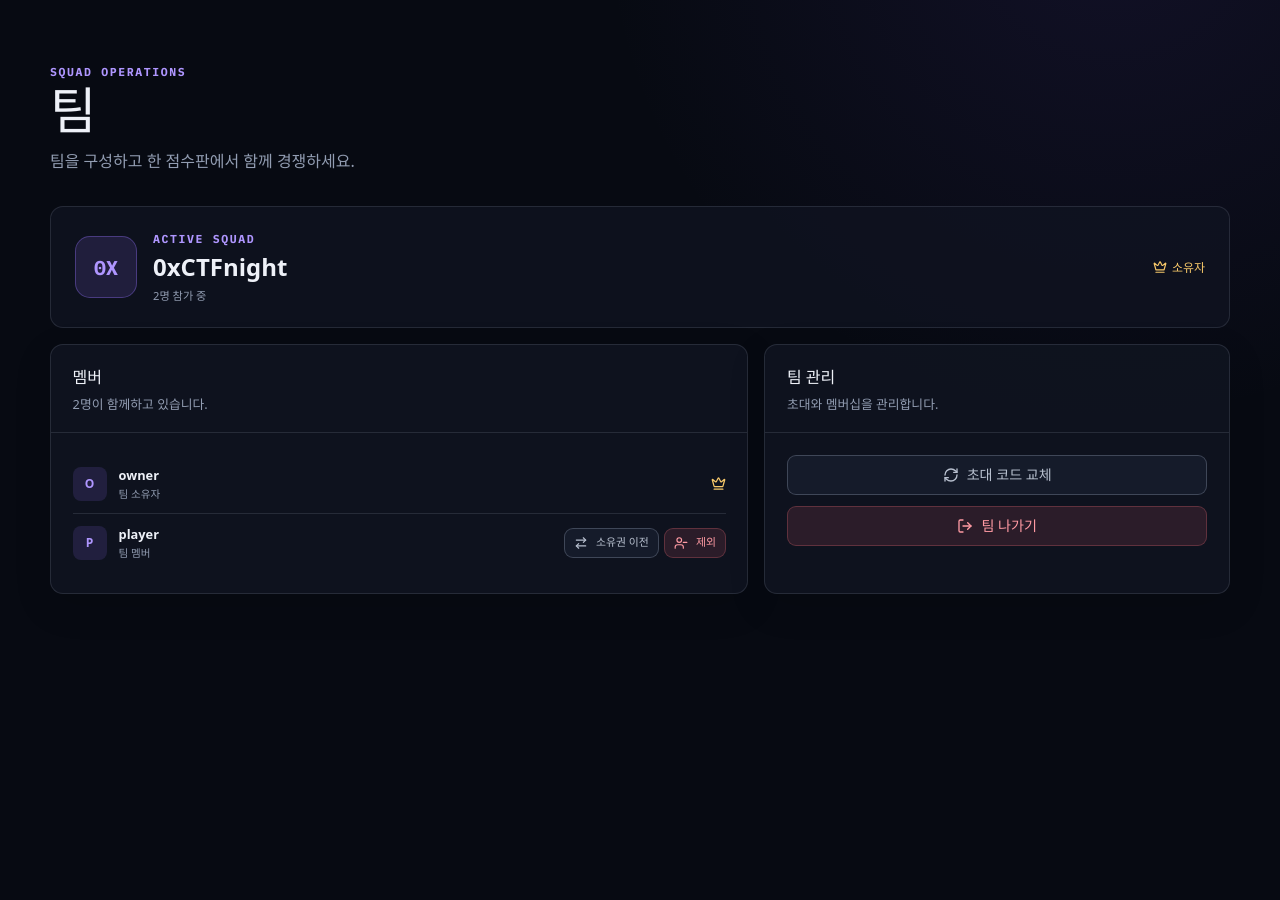
team member management › shows a safe error and leaves the owner controls usable after a rejected removal
This screenshot has width=1280, height=900.
Step 1. Click the button with aria-label "player 팀에서 제외" → (695, 542), box [664,528,726,558]
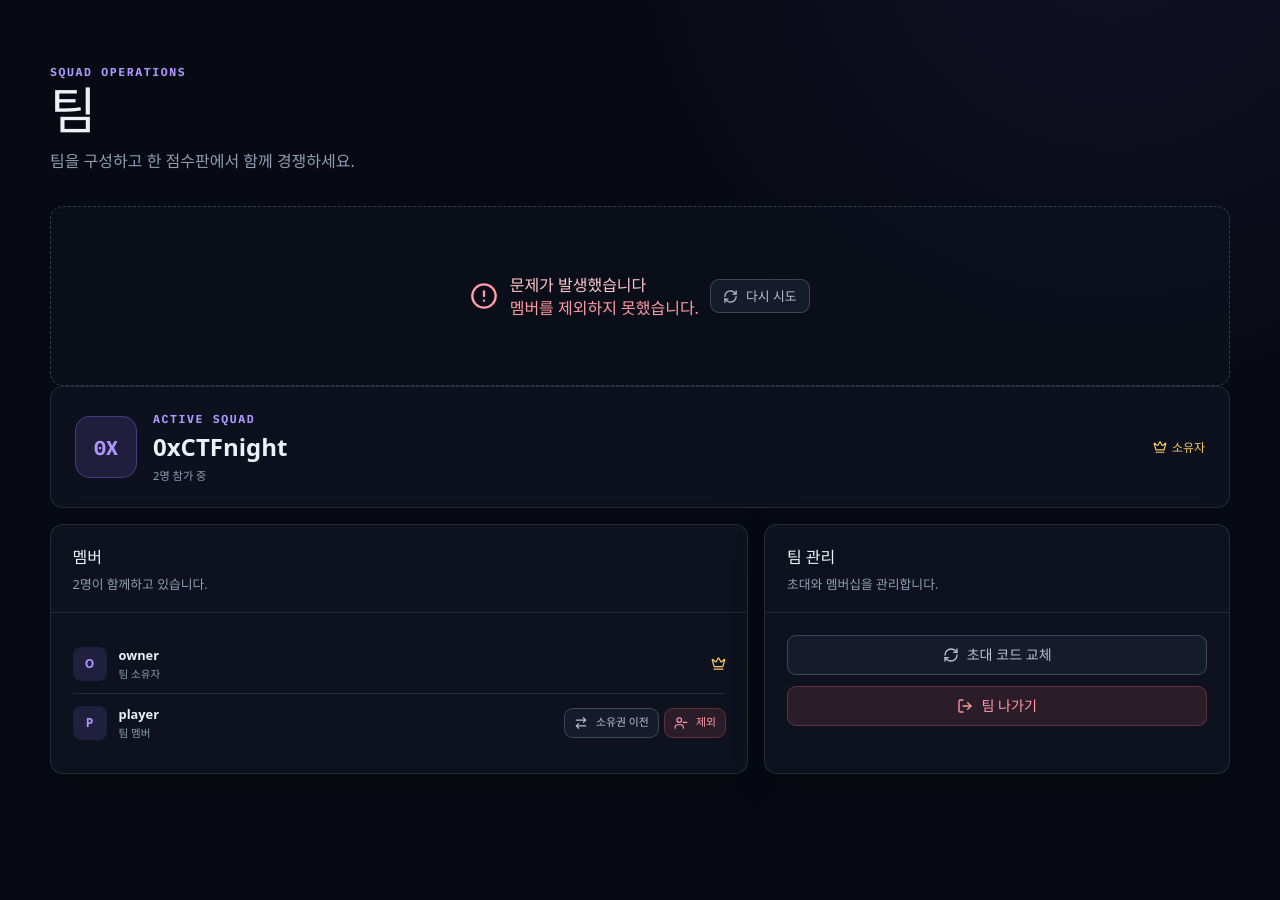
Expected: the button with aria-label "player 팀에서 제외" is enabled, [664,708,726,738]
Expected: the text "멤버를 제외하지 못했습니다." is shown, [510,296,699,321]
